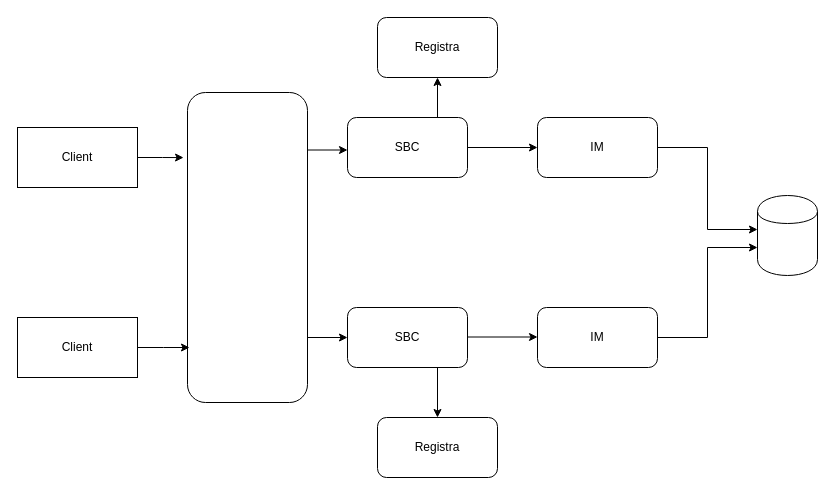
Image size: 835x495. Some labels were removed from this diagram. Here are the shapes that lost their labels. From the top down, the box of each, then its label:
(186, 92, 308, 402): LB
(756, 194, 818, 276): Redis
